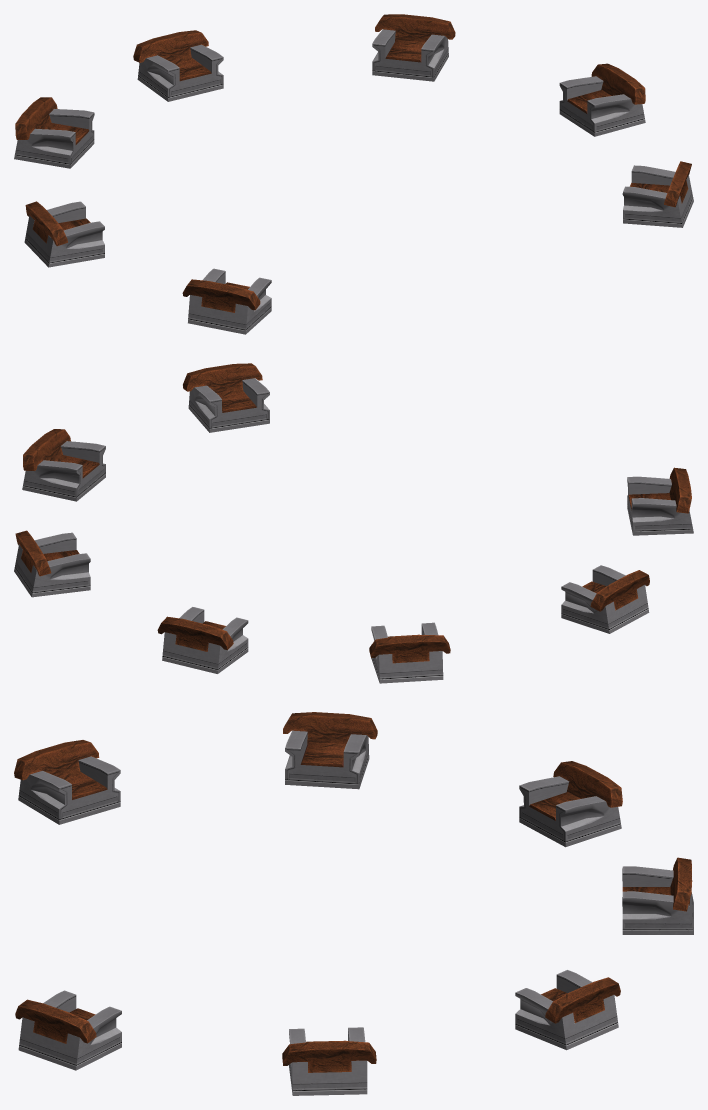
File: Cor1_prop_chair_1.fbx
The picture shows the model from 3 angles, top to bottom: view 1: azimuth 30°, elevation 25°; view 2: azimuth 150°, elevation 25°; view 3: azimuth 270°, elevation 25°; orthographic projection. The views are drawn at different scales.
Parts seen in each view (by area): view 1: chair, chair13, chair9, chair12, chair8, chair11, chair10; view 2: chair10, chair9, chair8, chair, chair13, chair11, chair12; view 3: chair11, chair12, chair8, chair13, chair10, chair9, chair.
Part boxes in pixels (box(x1,y1,x2,y2)): chair: box(133, 30, 223, 101); chair13: box(372, 14, 455, 81); chair9: box(559, 63, 645, 136); chair12: box(14, 97, 94, 168); chair8: box(24, 201, 104, 267); chair11: box(182, 268, 271, 334); chair10: box(622, 161, 693, 227); chair10: box(183, 363, 269, 432); chair9: box(22, 429, 105, 501); chair8: box(561, 565, 649, 633); chair: box(157, 607, 248, 673); chair13: box(14, 530, 90, 597); chair11: box(627, 467, 693, 535); chair12: box(369, 622, 450, 683); chair11: box(14, 740, 120, 824); chair12: box(519, 761, 622, 847); chair8: box(283, 712, 377, 789); chair13: box(515, 970, 620, 1050); chair10: box(15, 990, 121, 1070); chair9: box(282, 1027, 376, 1095); chair: box(622, 857, 693, 934).
Bounding box in the file's own units: 20.6 × 1.32 × 17.36.
